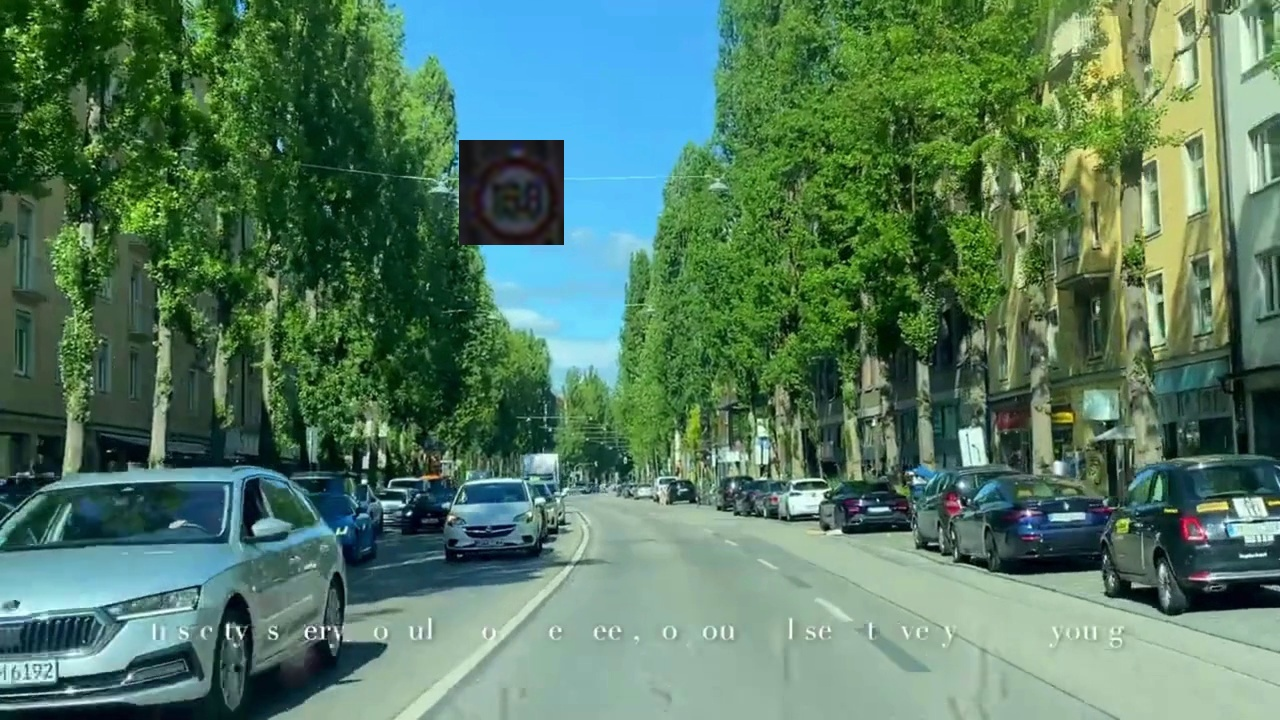Speed 100: (459, 140, 564, 245)
